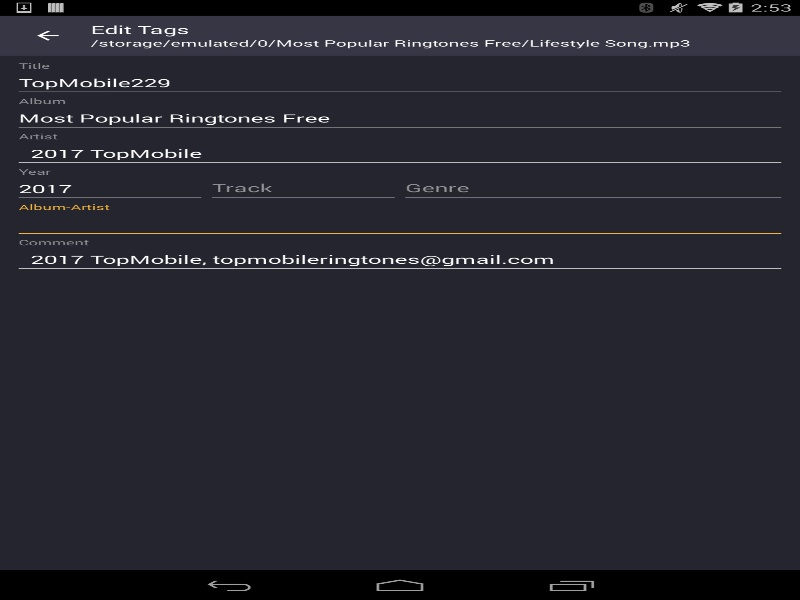Button: (10, 18, 85, 53)
Input: (13, 68, 786, 97), (13, 104, 786, 132), (13, 139, 786, 167), (13, 210, 786, 238), (13, 245, 786, 273), (400, 174, 786, 203), (206, 174, 400, 203), (13, 174, 206, 203)
